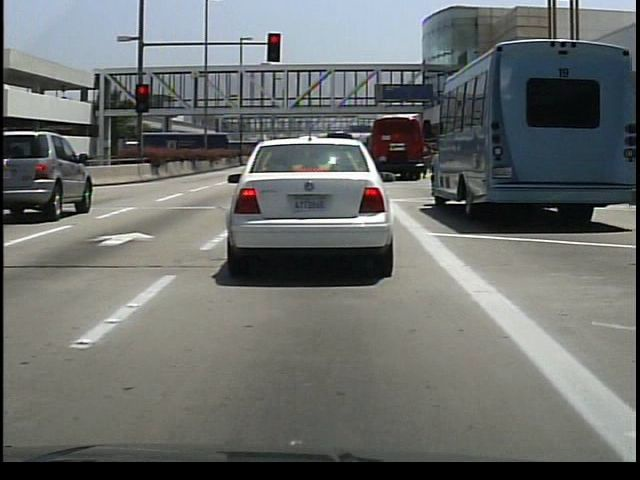person: (425, 138, 436, 178)
